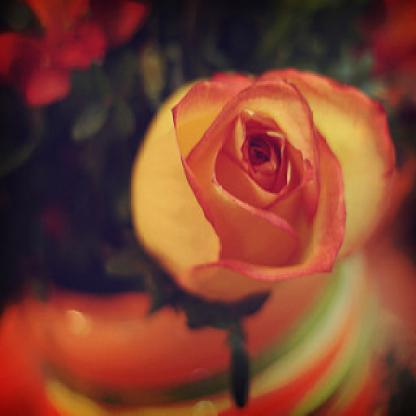ROSE-MAWAR: (147, 44, 400, 303)
